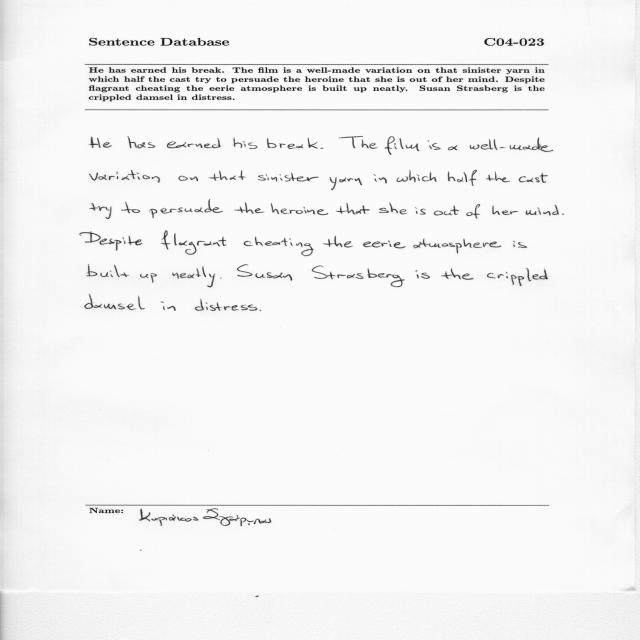word: (312, 266, 405, 288), (161, 231, 227, 255), (149, 200, 223, 218), (244, 237, 314, 256), (413, 239, 501, 254), (80, 231, 142, 251), (470, 138, 553, 152), (487, 268, 548, 286), (85, 294, 145, 310), (173, 266, 216, 288), (237, 264, 292, 281), (90, 170, 160, 183), (195, 299, 258, 311), (271, 203, 328, 215), (385, 136, 420, 155), (267, 138, 318, 149), (87, 264, 129, 277), (167, 139, 221, 149), (258, 173, 318, 182), (339, 136, 378, 149), (397, 170, 437, 182), (448, 170, 477, 186), (330, 177, 363, 190), (208, 170, 246, 181), (336, 203, 370, 215), (442, 268, 474, 280), (526, 205, 559, 216), (235, 202, 265, 214), (323, 236, 353, 248), (90, 203, 112, 219), (379, 203, 408, 215), (363, 241, 406, 249), (128, 137, 156, 149), (519, 173, 548, 183), (233, 138, 258, 149), (434, 205, 459, 216), (493, 206, 519, 216), (89, 137, 112, 148), (486, 172, 510, 182), (466, 204, 480, 219), (121, 202, 140, 213), (140, 274, 157, 283), (161, 301, 176, 311), (428, 140, 441, 150), (416, 270, 430, 279), (374, 175, 387, 184), (178, 176, 198, 181), (513, 241, 527, 248), (415, 207, 426, 215), (448, 145, 457, 150), (562, 213, 564, 215), (220, 277, 222, 279), (321, 148, 324, 149), (260, 310, 262, 311)
